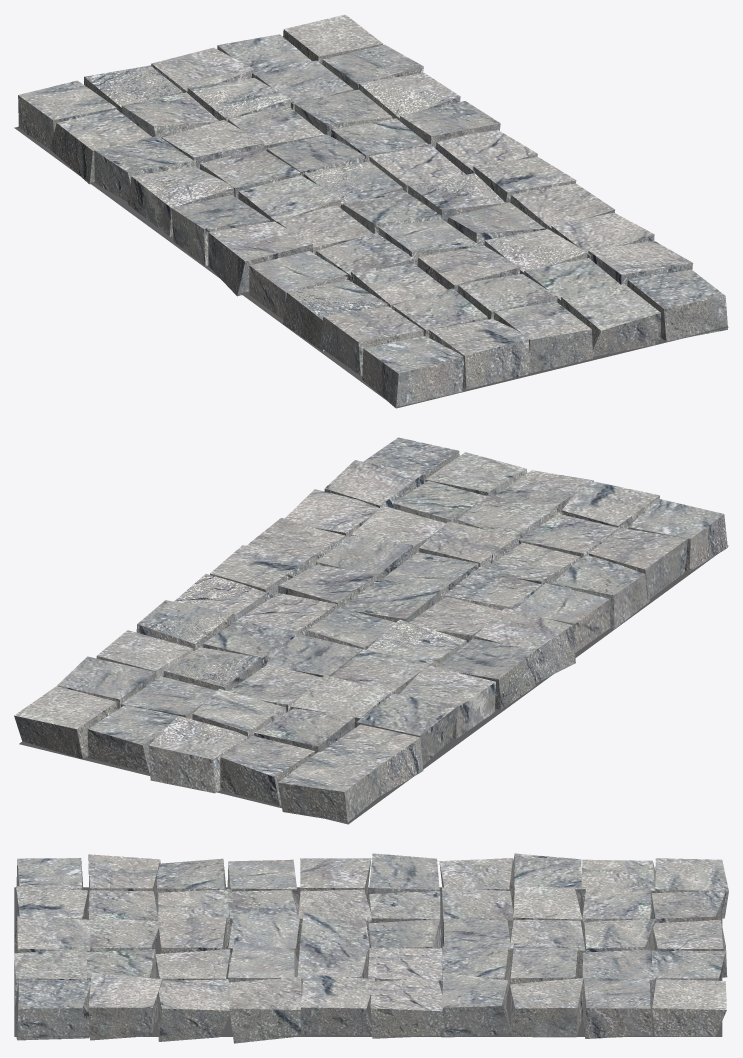
Rendered from Stone_Tile_1x2.fbx.
3 renders of one model, top to bottom at view 1: azimuth 30°, elevation 25°; view 2: azimuth 150°, elevation 25°; view 3: azimuth 270°, elevation 25°, orthographic. The views are drawn at different scales.
Visible parts, largest first — view 1: Stone_Tile_1x2; view 2: Stone_Tile_1x2; view 3: Stone_Tile_1x2.
Boxes of the visible parts, box(x1,y1,x2,y2) form: Stone_Tile_1x2: box(14, 14, 728, 408); Stone_Tile_1x2: box(14, 437, 728, 824); Stone_Tile_1x2: box(14, 853, 728, 1043).
Size of the model in its own units: 1.03 by 0.1358 by 2.02.
Materials: 2 (1 with a texture image).
